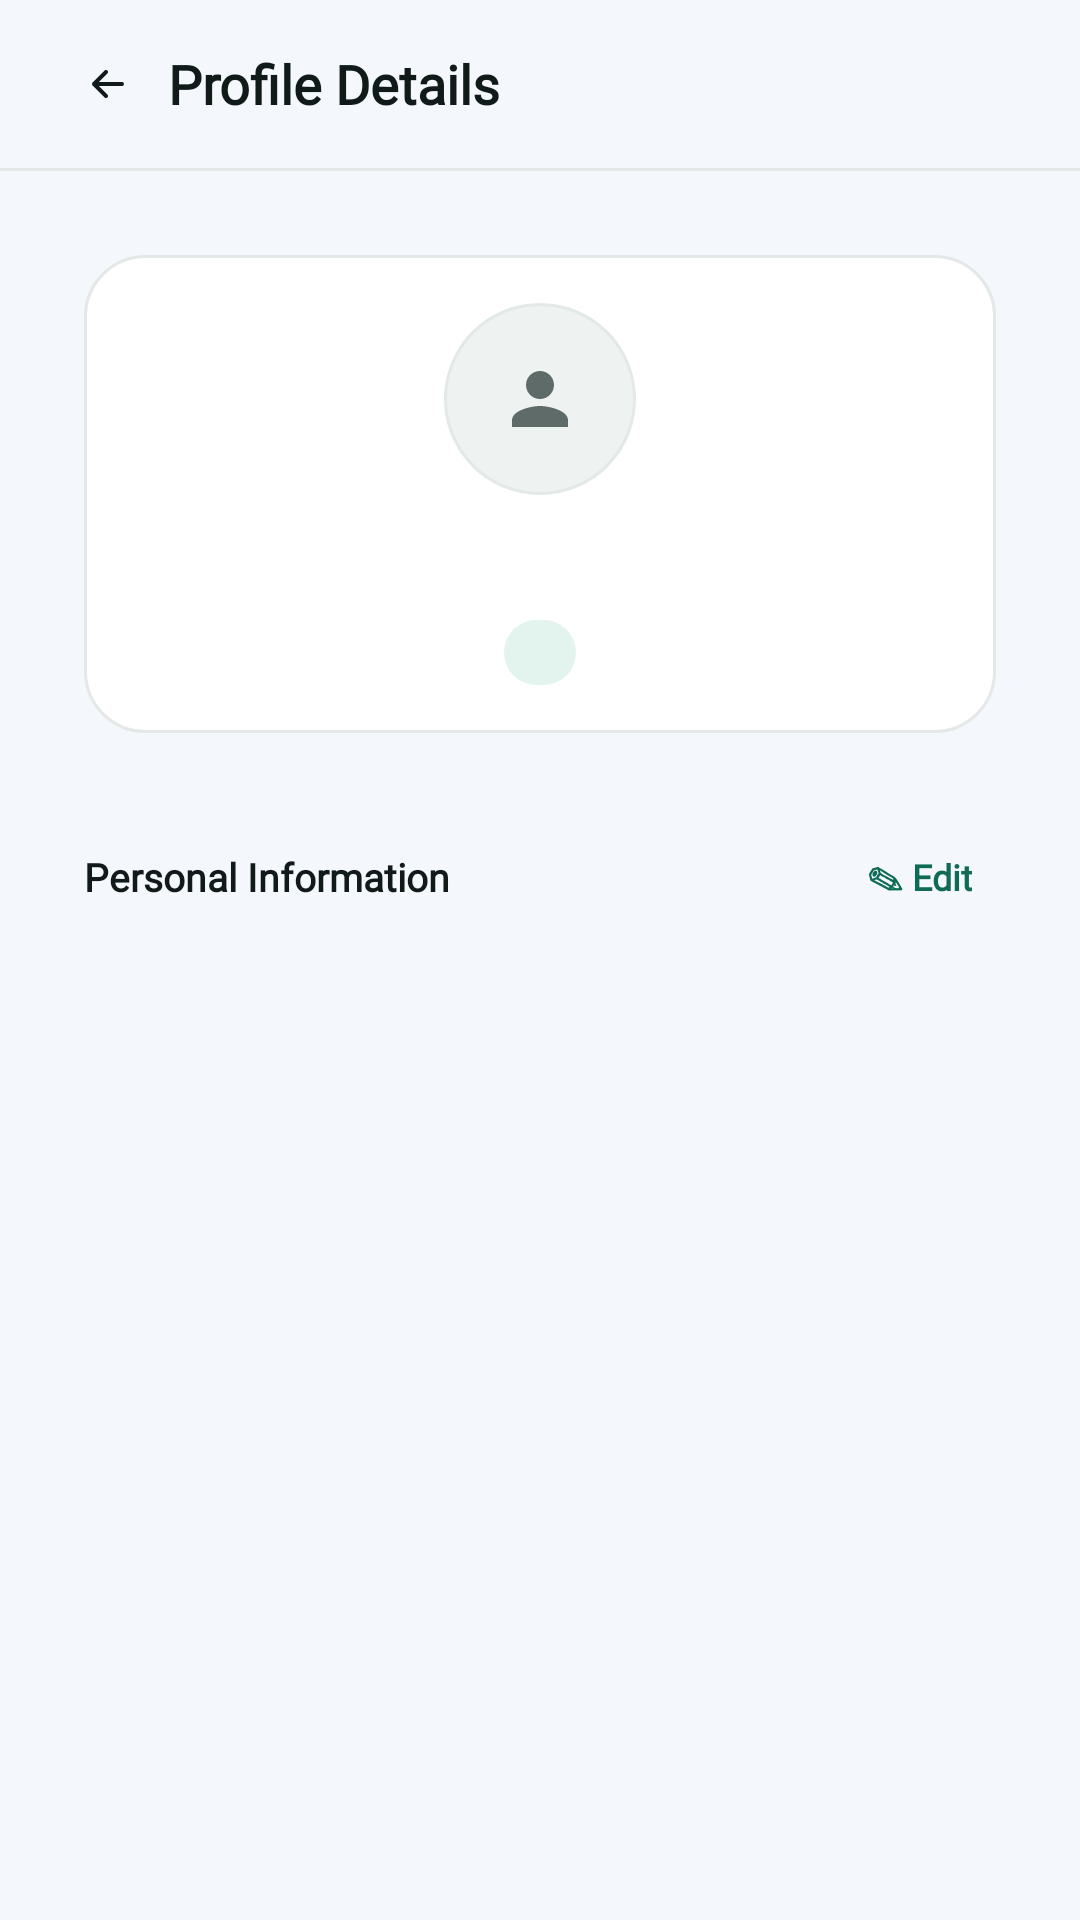

Icon click points for this 1080*1920 phone screenshot, format (x,y):
Back: (108,84)
person: (540,399)
